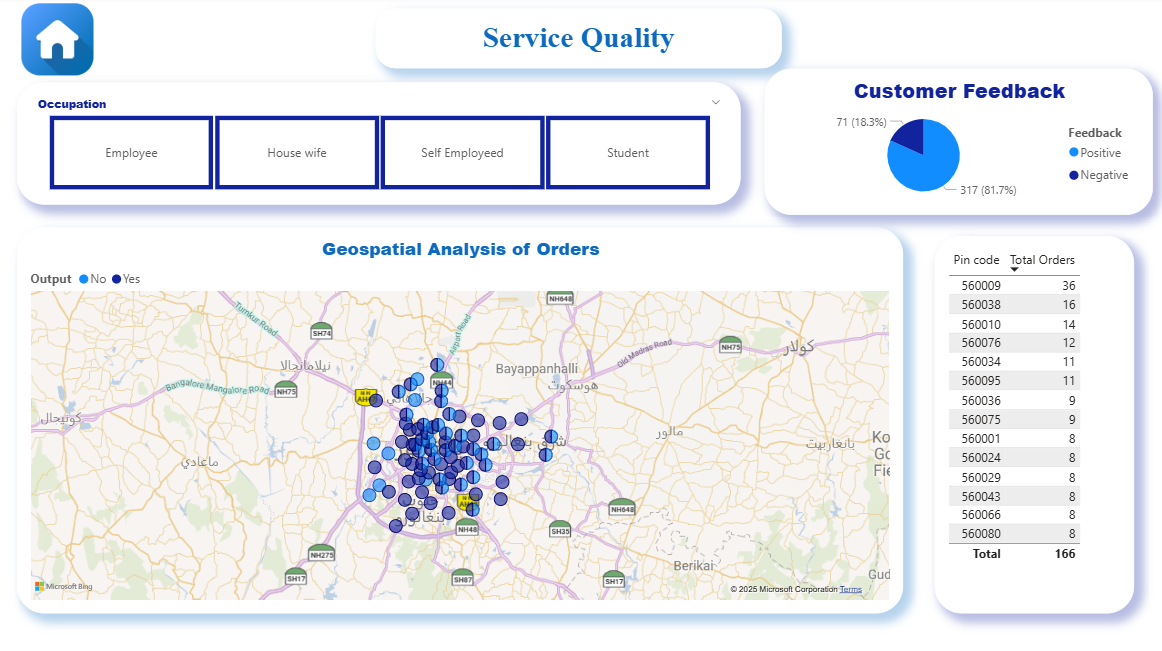

Layout of this report page (visuals, bound fields, positions):
{"tool":"powerbi","page":{"name":"Map & Pin Code","canvas":[1280,720],"ordinal":3},"visuals":[{"type":"textbox","box":[415.8,13.7,446,65.9],"z":0},{"type":"map","title":"Geospatial Analysis of Orders","fields":{"Y":["Table1.latitude"],"X":["Table1.longitude"],"Series":["Table1.Output"]},"box":[22,253.9,972.9,424],"z":1000},{"type":"tableEx","fields":{"Values":["Table1.Pin code","Table1.Total Orders"]},"box":[1029.2,263.5,219.6,414.4],"z":2000},{"type":"image","box":[22,0,89.2,94.7],"z":3000},{"type":"pieChart","title":"Customer Feedback","fields":{"Category":["Table1.Feedback"],"Y":["Table1.Total Orders"]},"box":[842.5,79.6,426.8,160.5],"z":4000},{"type":"slicer","fields":{"Values":["Table1.Occupation"]},"box":[22,94.7,794.5,134.5],"z":5000}]}

Visuals, with their boxes in screenshot pixels (x1, y1, x2, y2), scaled from the page's 1280x720 canvas onto the 1162x651 screenshot:
textbox: rect(377, 12, 782, 72)
"Geospatial Analysis of Orders" map: rect(20, 230, 903, 613)
tableEx - Table1.Pin code x Table1.Total Orders: rect(934, 238, 1134, 613)
image: rect(20, 0, 101, 86)
"Customer Feedback" pieChart: rect(765, 72, 1152, 217)
slicer - Table1.Occupation: rect(20, 86, 741, 207)
